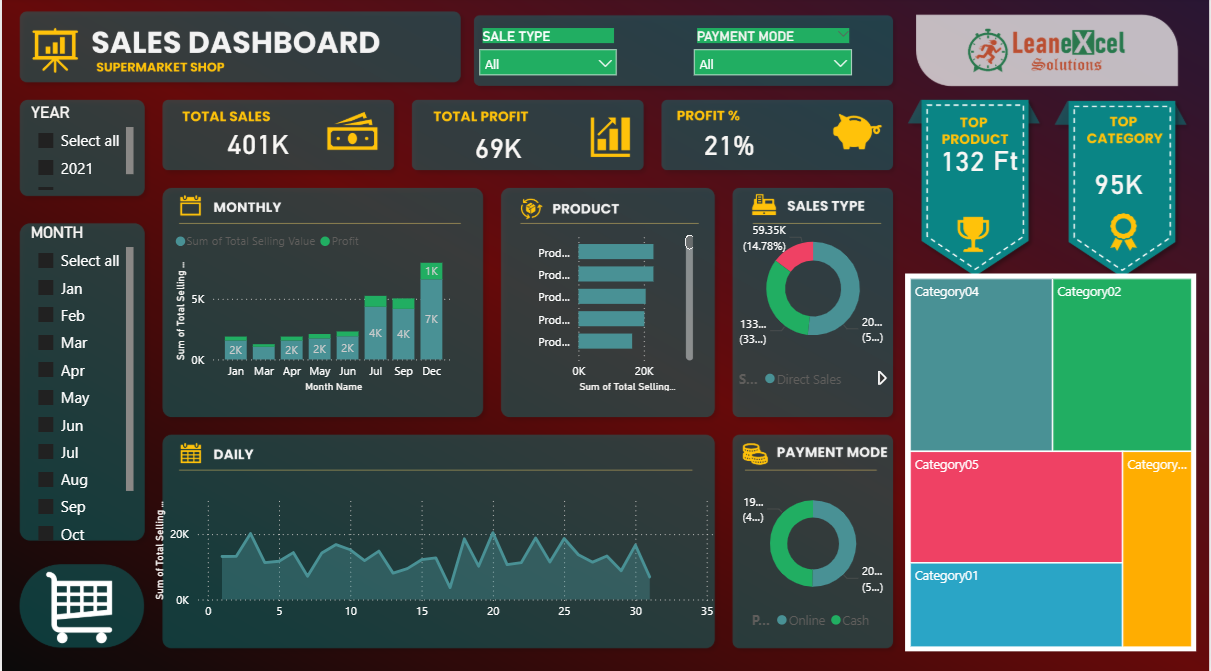

Layout of this report page (visuals, bound fields, positions):
{"tool":"powerbi","page":{"name":"Page 1","canvas":[1280,720],"ordinal":0},"visuals":[{"type":"slicer","fields":{"Values":["InputData.SALE TYPE"]},"box":[496.3,28.6,165.4,58.9],"z":0},{"type":"slicer","title":"YEAR","fields":{"Values":["InputData.Year"]},"box":[25.4,112.9,119.3,97],"z":1000},{"type":"slicer","fields":{"Values":["InputData.PAYMENT MODE"]},"box":[723.1,28.8,187.5,96.8],"z":2000},{"type":"slicer","title":"MONTH","fields":{"Values":["InputData.Month Name"]},"box":[25.4,240.2,119.3,343.6],"z":3000},{"type":"card","fields":{"Values":["Sum(InputData.Total Selling Value)"]},"box":[175,112.9,192.5,84.3],"z":4000},{"type":"card","fields":{"Values":["InputData.Profit"]},"box":[437.4,125.7,176.6,68.4],"z":5000},{"type":"card","fields":{"Values":["InputData.Profit %"]},"box":[723.7,125.7,93.8,60.4],"z":6000},{"type":"card","fields":{"Values":["Sum(InputData.QUANTITY)"]},"box":[971.9,125.7,92.3,95.4],"z":7000},{"type":"card","fields":{"Values":["InputData.Top Product Sales"]},"box":[1140.5,149.5,85.9,97],"z":8000},{"type":"card","fields":{"Values":["Min(InputData.MasterData.UOM)"]},"box":[1043.4,138.4,41.4,68.4],"z":9000},{"type":"columnChart","fields":{"Y":["Sum(InputData.Total Selling Value)","InputData.Profit"],"Category":["InputData.Month Name"]},"box":[177.9,239.9,305.8,183.9],"z":10000},{"type":"clusteredBarChart","fields":{"Category":["InputData.MasterData.PRODUCT"],"Y":["Sum(InputData.Total Selling Value)"]},"box":[551.7,239.9,185.9,183.9],"z":11000},{"type":"areaChart","fields":{"Y":["Sum(InputData.Total Selling Value)"],"Category":["InputData.Day"]},"box":[155.9,521.7,606,147.9],"z":12000},{"type":"donutChart","fields":{"Category":["InputData.SALE TYPE"],"Y":["Sum(InputData.Total Selling Value)"]},"box":[776.2,224.3,167,200.4],"z":13000},{"type":"donutChart","fields":{"Category":["InputData.PAYMENT MODE"],"Y":["Sum(InputData.Total Selling Value)"]},"box":[776.2,509,167,171.8],"z":14000},{"type":"treemap","fields":{"Values":["Sum(InputData.Total Selling Value)"],"Group":["MasterData.CATEGORY"]},"box":[957.5,294.3,308.6,400.8],"z":15000}]}

Visuals, with their boxes in screenshot pixels (x1, y1, x2, y2), scaled from the page's 1280x720 canvas onto the 1211x671 screenshot:
slicer - InputData.SALE TYPE: <region>470, 27, 626, 82</region>
"YEAR" slicer: <region>24, 105, 137, 196</region>
slicer - InputData.PAYMENT MODE: <region>684, 27, 862, 117</region>
"MONTH" slicer: <region>24, 224, 137, 544</region>
card - Sum(InputData.Total Selling Value): <region>166, 105, 348, 184</region>
card - InputData.Profit: <region>414, 117, 581, 181</region>
card - InputData.Profit %: <region>685, 117, 773, 173</region>
card - Sum(InputData.QUANTITY): <region>920, 117, 1007, 206</region>
card - InputData.Top Product Sales: <region>1079, 139, 1160, 230</region>
card - Min(InputData.MasterData.UOM): <region>987, 129, 1026, 193</region>
columnChart - Sum(InputData.Total Selling Value) x InputData.Profit: <region>168, 224, 458, 395</region>
clusteredBarChart - InputData.MasterData.PRODUCT x Sum(InputData.Total Selling Value): <region>522, 224, 698, 395</region>
areaChart - Sum(InputData.Total Selling Value) x InputData.Day: <region>147, 486, 721, 624</region>
donutChart - InputData.SALE TYPE x Sum(InputData.Total Selling Value): <region>734, 209, 892, 396</region>
donutChart - InputData.PAYMENT MODE x Sum(InputData.Total Selling Value): <region>734, 474, 892, 634</region>
treemap - Sum(InputData.Total Selling Value) x MasterData.CATEGORY: <region>906, 274, 1198, 648</region>
